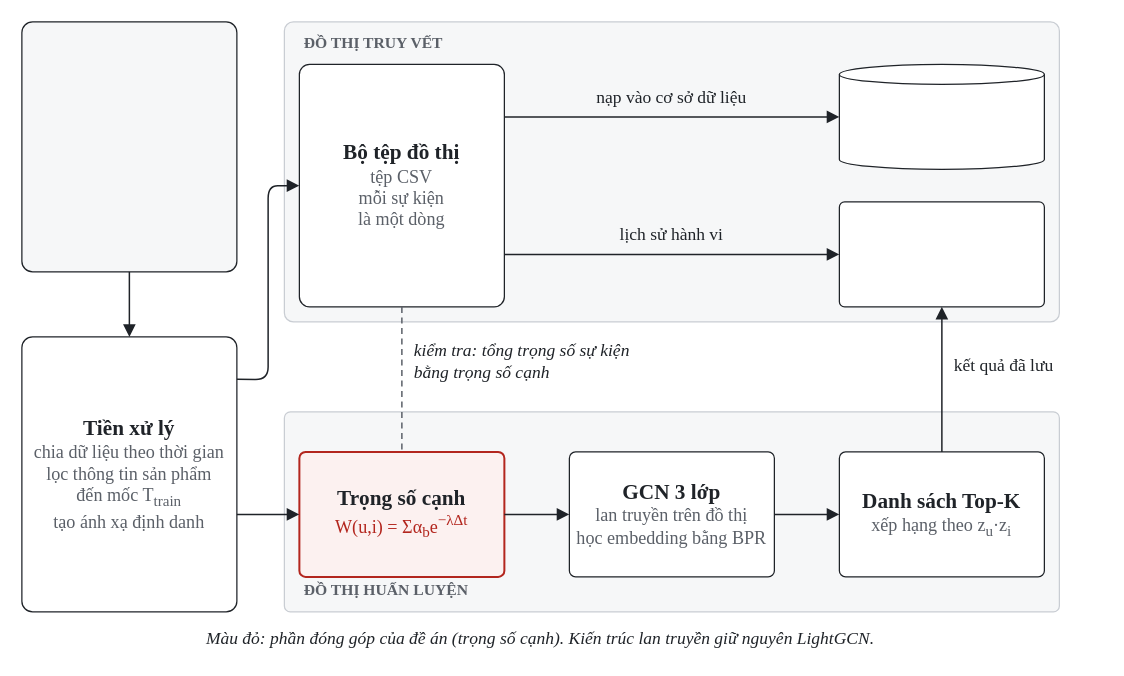
This 1124x676 diagram has some shape labels left out. Each missing label, with the box of its shape:
Dữ liệu Retail Rocket events.csv item_properties category_tree: (21, 21, 237, 272)
Neo4j kiểm tra lược đồ, số nút và cạnh: (838, 63, 1044, 169)
Ứng dụng xem lịch sử hành vi và danh sách gợi ý: (838, 201, 1044, 307)
